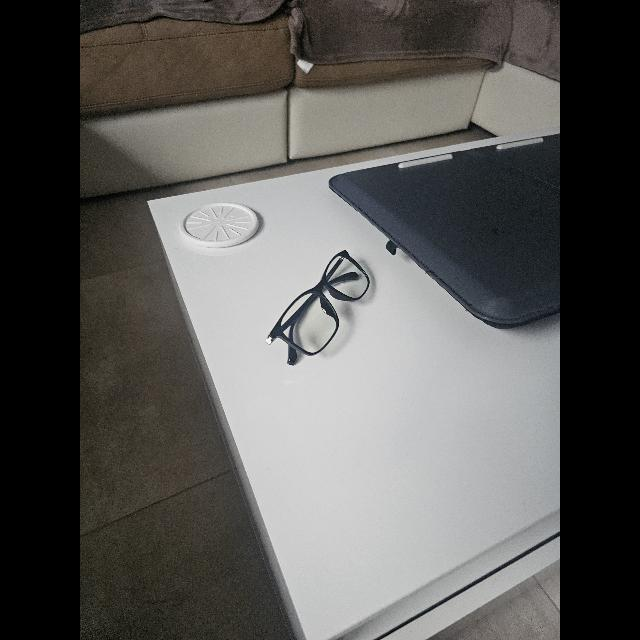glasses: (266, 250, 370, 366)
